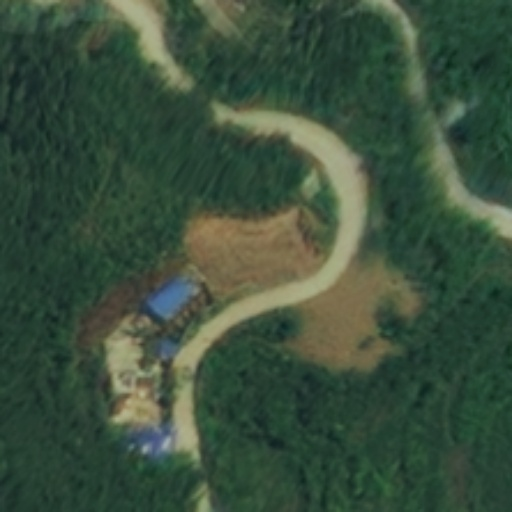landslide: (194, 213, 420, 373)
